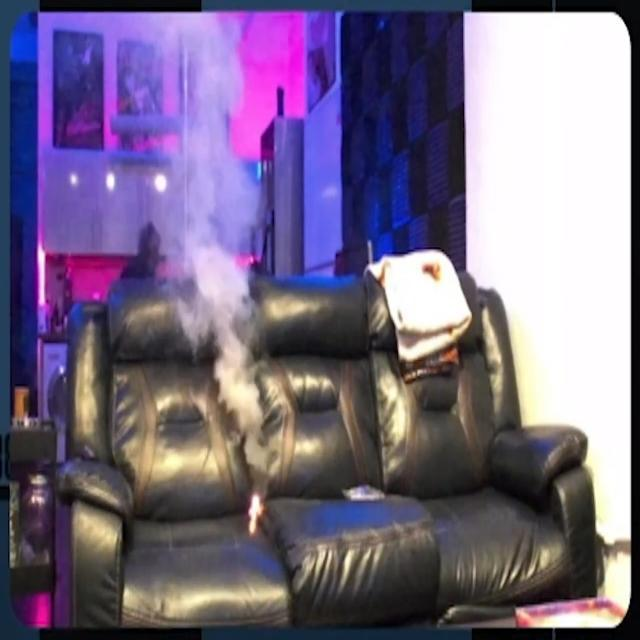Smoke: (138, 18, 270, 472)
